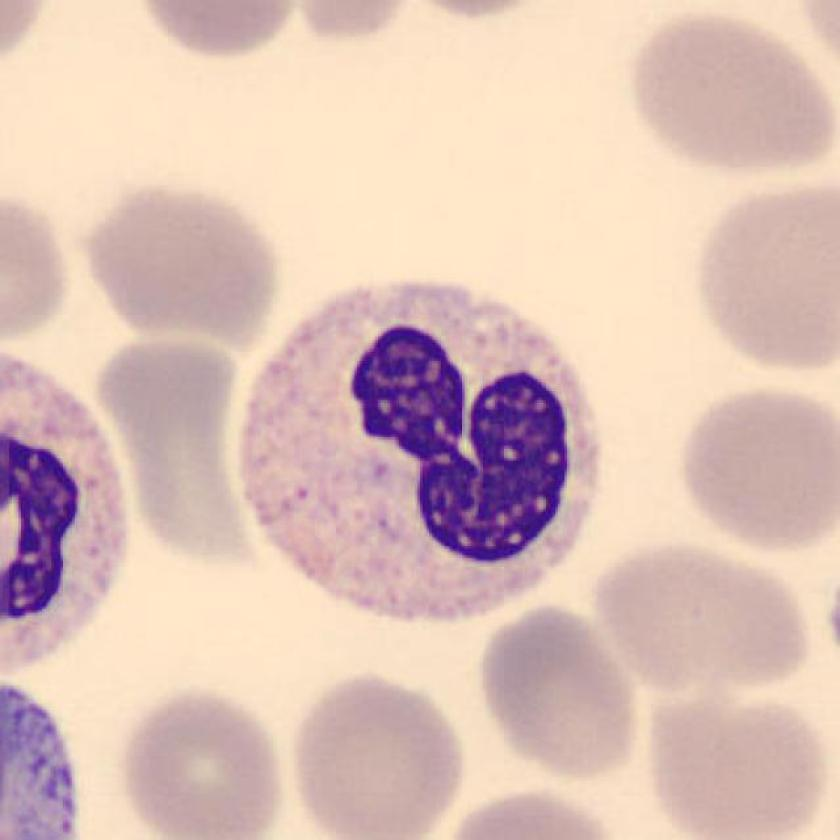neutrophil: (241, 278, 602, 622), (1, 349, 127, 673)
